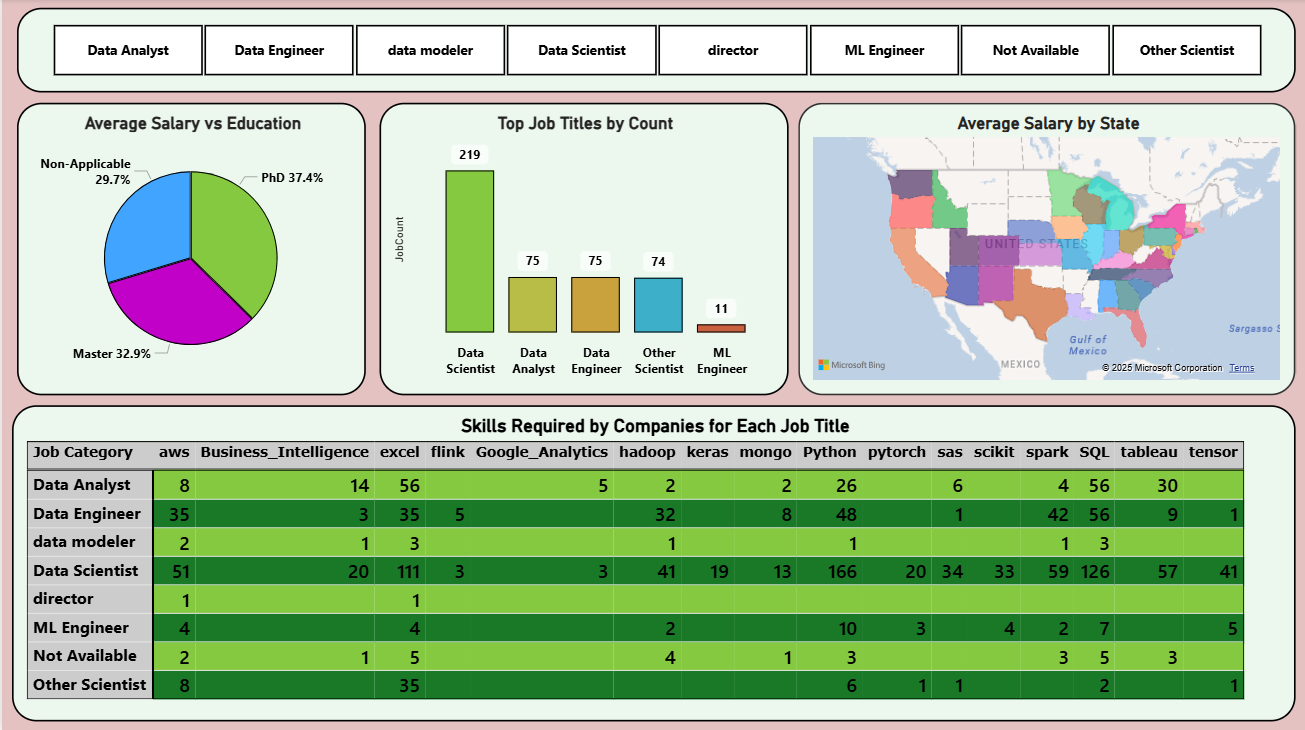

The dashboard page shown, as its layout file describes it:
{"tool":"powerbi","page":{"name":"Dashboard2","canvas":[1280,720],"ordinal":1},"visuals":[{"type":"pivotTable","title":"Skills Required by Companies for Each Job Title","fields":{"Rows":["JobTitle_Category_Skills.Job_Category"],"Values":["Sum(JobTitle_Category_Skills.Job_Count)"],"Columns":["JobTitle_Category_Skills.Skill"]},"box":[10,398.6,1260,310],"z":0},{"type":"filledMap","title":"Average Salary by State","fields":{"Series":["Job_Table.State"],"Category":["Job_Table.State"]},"box":[781.6,101.8,488.3,287.1],"z":1000},{"type":"lineClusteredColumnComboChart","title":"Top Job Titles by Count","fields":{"Category":["Job_Table.job_title_sim"],"Y":["Job_Table.JobCount"]},"box":[370.6,101.8,401.2,287.1],"z":2000},{"type":"pieChart","title":"Average Salary vs Education","fields":{"Category":["Job_Table.Degree"],"Y":["Job_Table.AvgSalaryByDegree"]},"box":[14.7,101.8,342.3,287.1],"z":3000},{"type":"slicer","fields":{"Values":["DIM_Job_Table.Job_Category"]},"box":[14.7,8.6,1255.2,83.4],"z":4000}]}

Visuals, with their boxes in screenshot pixels (x1, y1, x2, y2), scaled from the page's 1280x720 canvas onto the 1305x730 screenshot:
"Skills Required by Companies for Each Job Title" pivotTable: <bbox>10, 404, 1295, 718</bbox>
"Average Salary by State" filledMap: <bbox>797, 103, 1295, 394</bbox>
"Top Job Titles by Count" lineClusteredColumnComboChart: <bbox>378, 103, 787, 394</bbox>
"Average Salary vs Education" pieChart: <bbox>15, 103, 364, 394</bbox>
slicer - DIM_Job_Table.Job_Category: <bbox>15, 9, 1295, 93</bbox>
